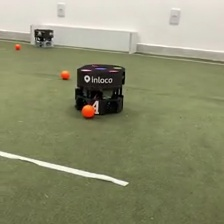ball: (80, 102, 96, 118), (59, 69, 70, 81), (14, 41, 21, 50)
goal: (29, 22, 138, 55)
robot: (73, 62, 125, 115), (33, 27, 55, 49)
